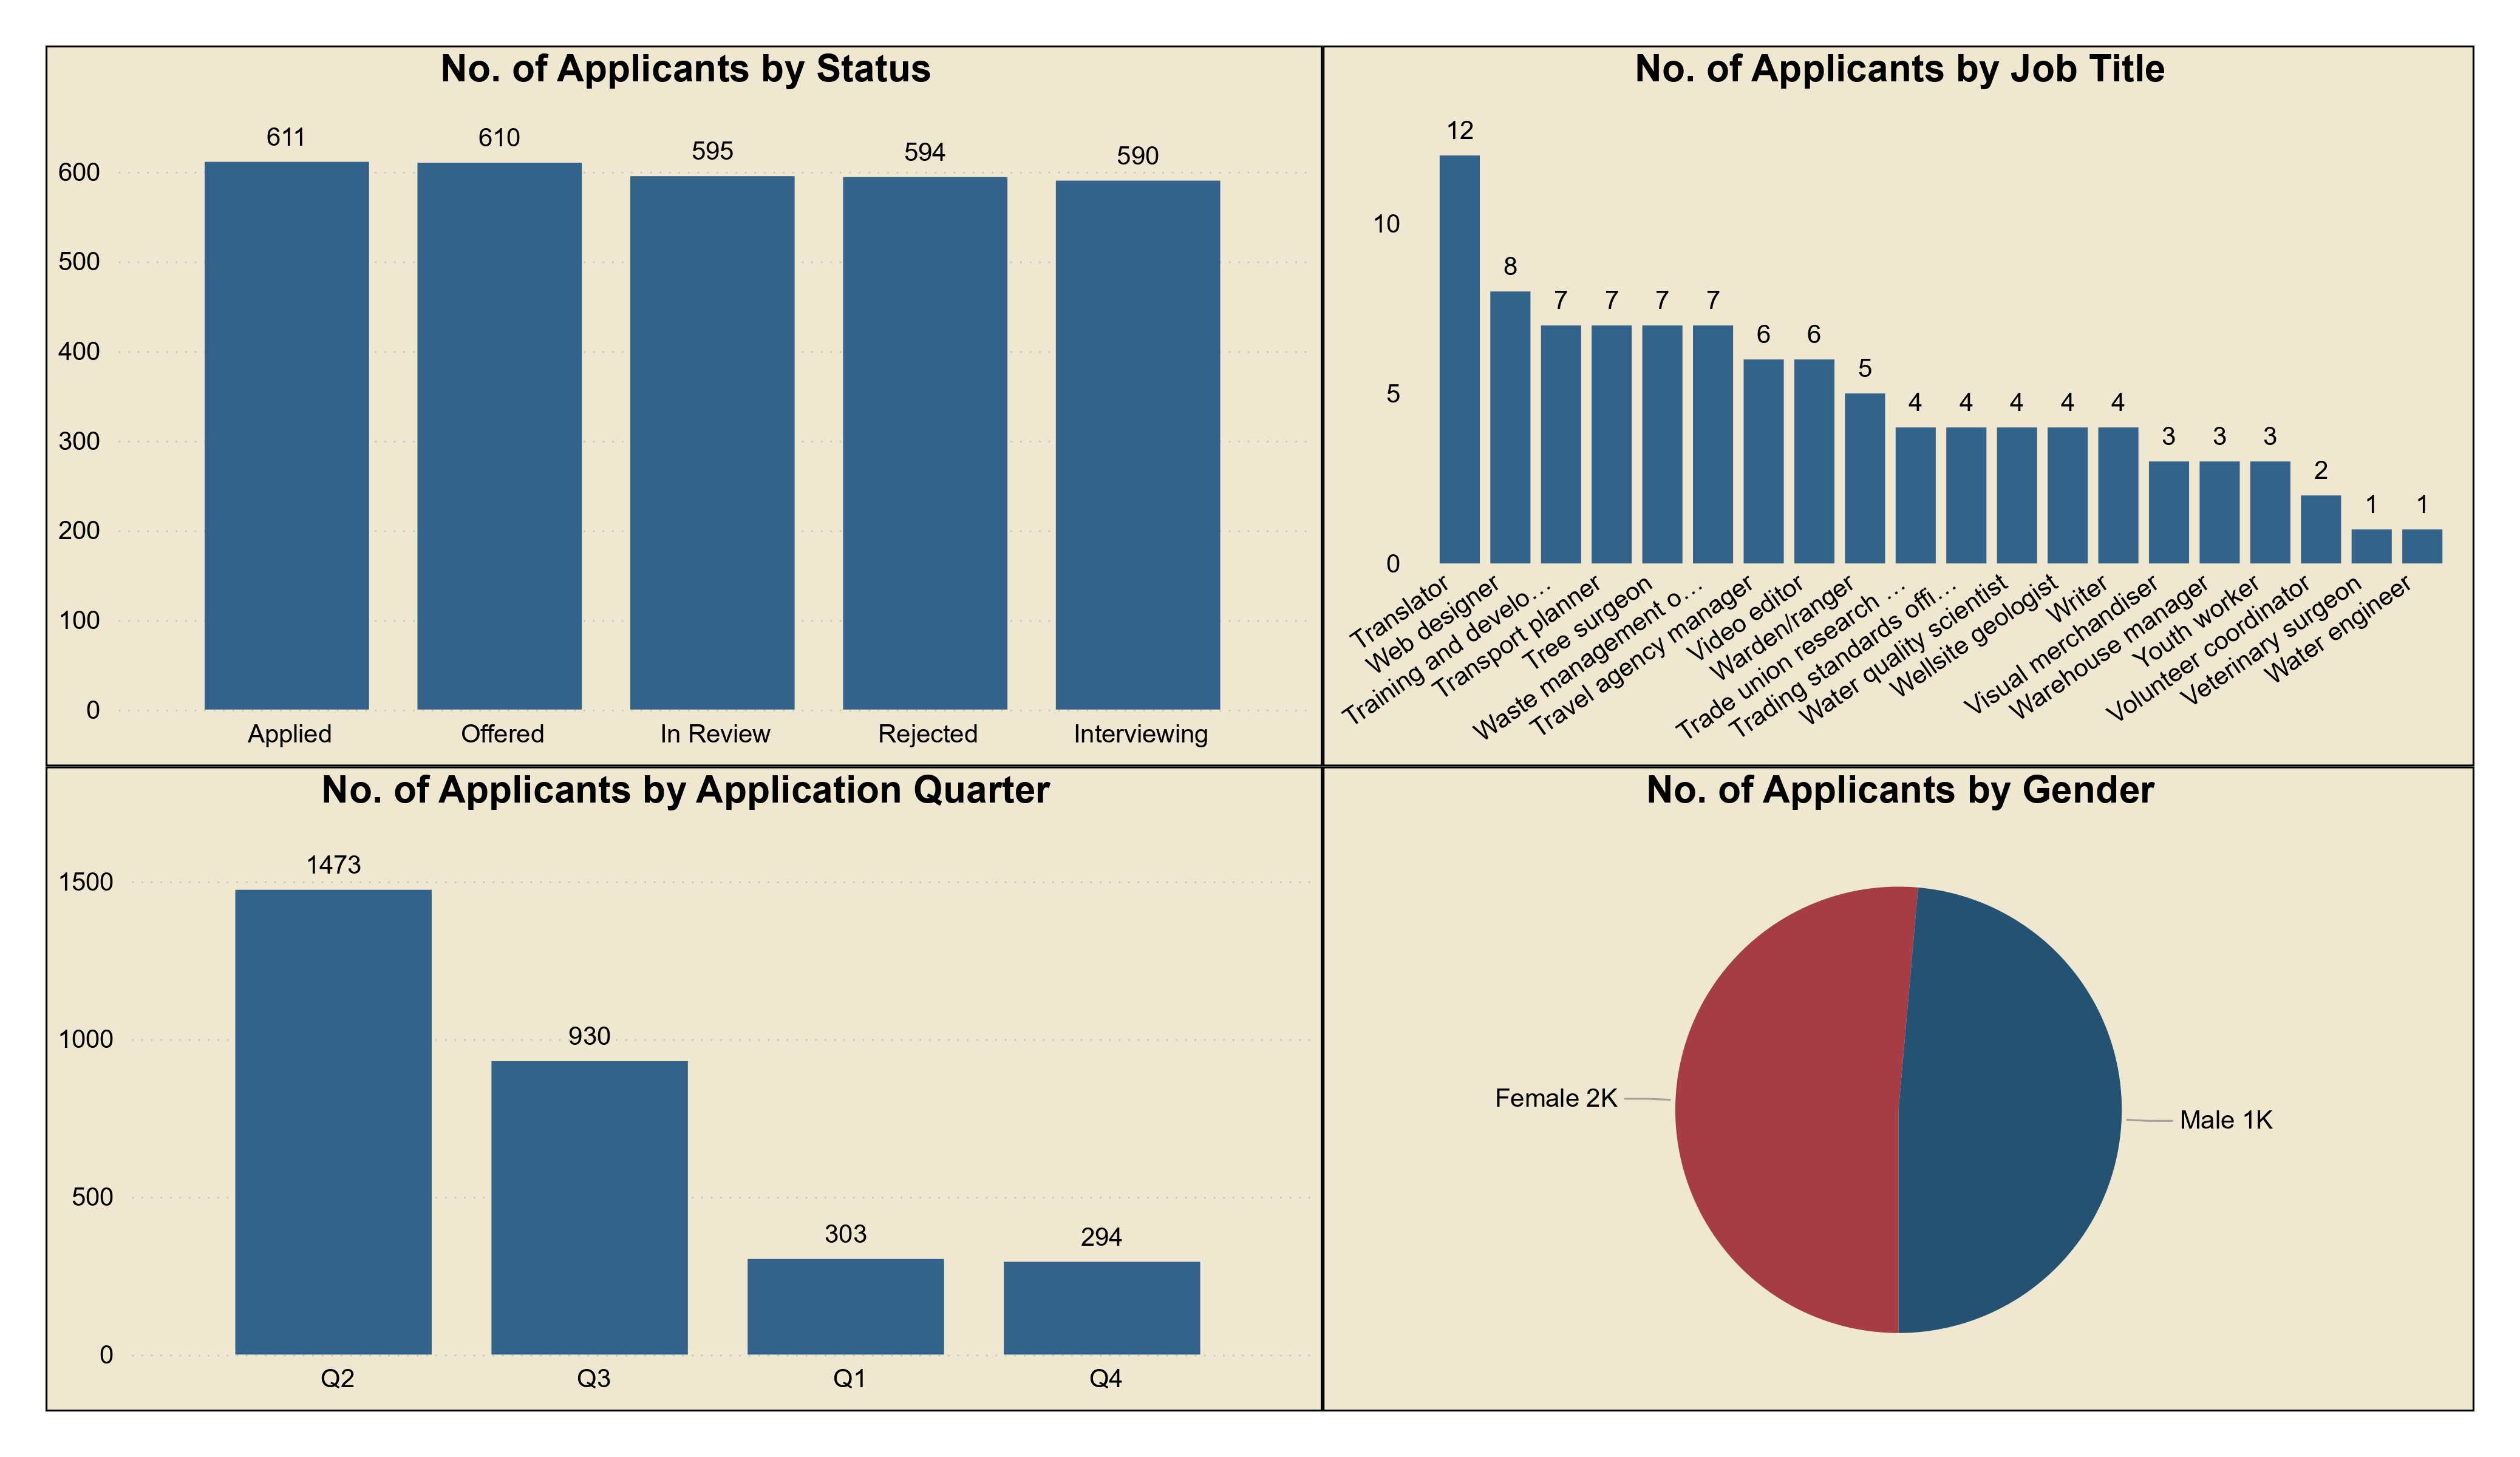

Layout of this report page (visuals, bound fields, positions):
{"tool":"powerbi","page":{"name":"Recruitment Data","canvas":[1280,720],"ordinal":2},"visuals":[{"type":"clusteredColumnChart","fields":{"Y":["recruitment_data.No. of Applicants"],"Category":["recruitment_data.Job Title"]},"box":[673.2,0,606.8,379.6],"z":0},{"type":"clusteredColumnChart","fields":{"Y":["recruitment_data.No. of Applicants"],"Category":["recruitment_data.Status"]},"box":[0,0,673.2,379.6],"z":1000},{"type":"clusteredColumnChart","fields":{"Y":["recruitment_data.No. of Applicants"],"Category":["recruitment_data.Application Quarter"]},"box":[0,379.6,673.2,340.8],"z":2000},{"type":"pieChart","fields":{"Category":["recruitment_data.Gender"],"Y":["recruitment_data.No. of Applicants"]},"box":[673.2,379.6,606.8,340.8],"z":3000}]}

Visuals, with their boxes in screenshot pixels (x1, y1, x2, y2):
clusteredColumnChart - recruitment_data.No. of Applicants x recruitment_data.Job Title: [left=1323, top=46, right=2474, bottom=766]
clusteredColumnChart - recruitment_data.No. of Applicants x recruitment_data.Status: [left=46, top=46, right=1323, bottom=766]
clusteredColumnChart - recruitment_data.No. of Applicants x recruitment_data.Application Quarter: [left=46, top=766, right=1323, bottom=1411]
pieChart - recruitment_data.Gender x recruitment_data.No. of Applicants: [left=1323, top=766, right=2474, bottom=1411]
